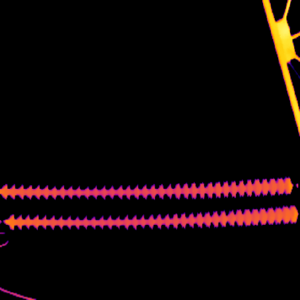insulator: (0, 176, 299, 230)
